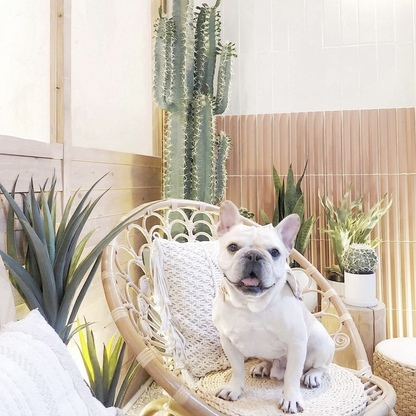bulldog: (210, 198, 337, 414)
